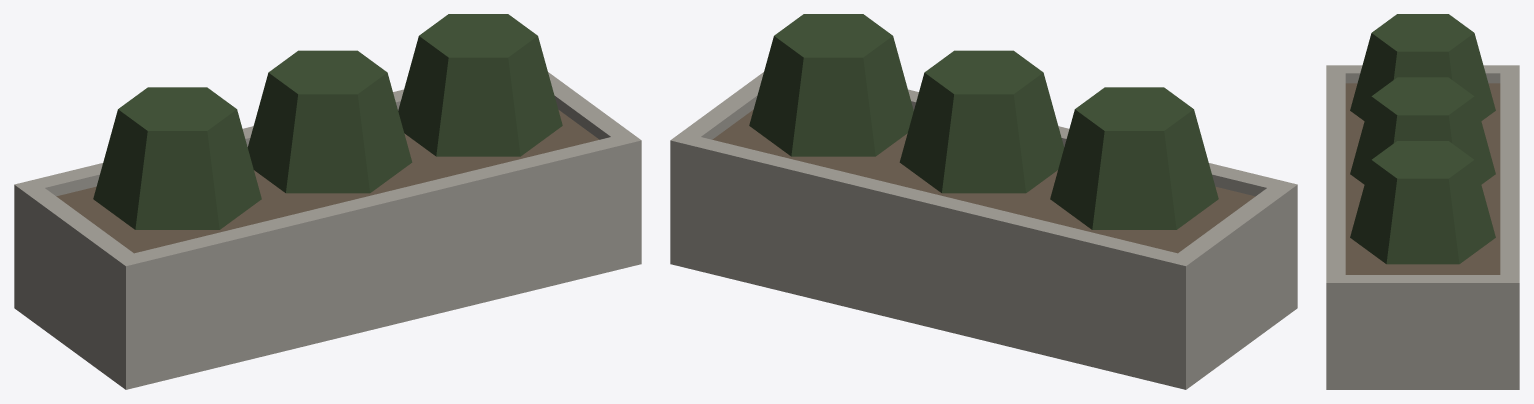
The picture shows the model from 3 angles, left to right: view 1: azimuth 30°, elevation 25°; view 2: azimuth 150°, elevation 25°; view 3: azimuth 270°, elevation 25°; orthographic projection. The views are drawn at different scales.
Visible parts, largest first — view 1: 489; view 2: 489; view 3: 489.
Part boxes in pixels (box(x1,y1,x2,y2)): 489: box(14, 14, 641, 389); 489: box(670, 14, 1297, 389); 489: box(1326, 14, 1519, 389).
Bounding box in the file's own units: 2.4 × 0.95 × 0.9.
